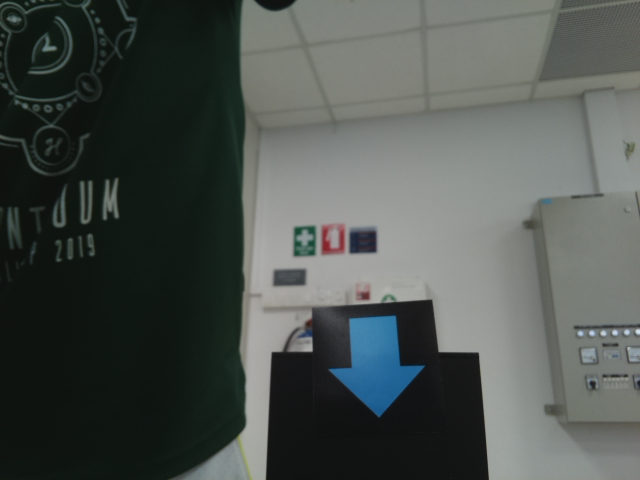down: (322, 312, 430, 422)
